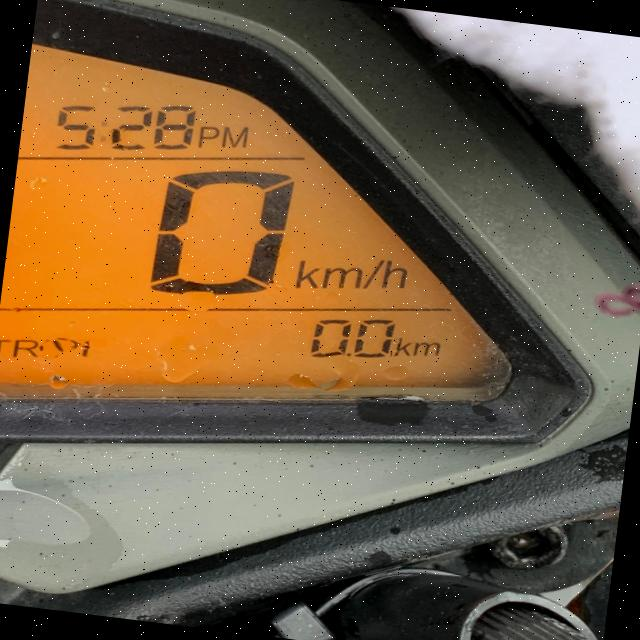odometer: (0, 26, 562, 473)
